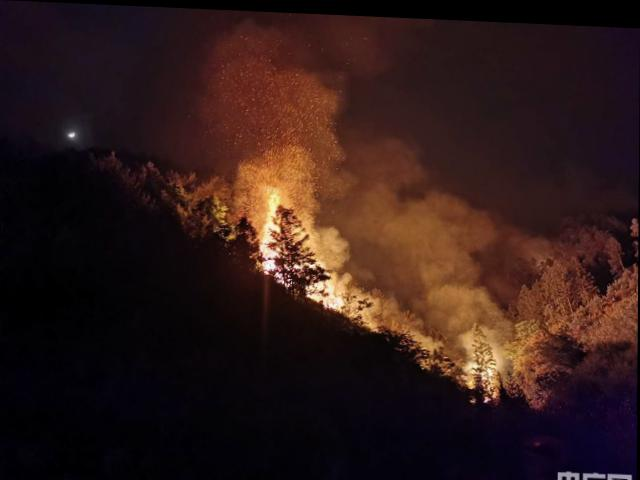fire: (255, 183, 348, 318), (457, 345, 501, 401)
